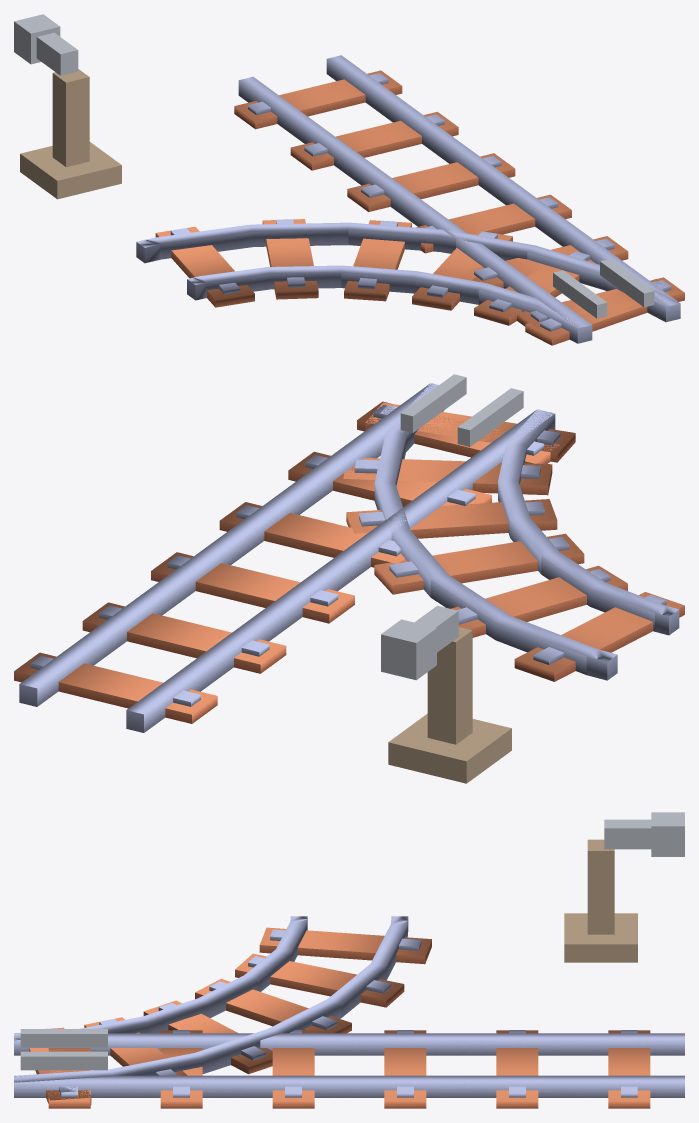
Rendered from switch-mirror.glb.
The picture shows the model from 3 angles, top to bottom: view 1: azimuth 30°, elevation 25°; view 2: azimuth 150°, elevation 25°; view 3: azimuth 270°, elevation 25°; orthographic projection. The views are drawn at different scales.
Visible parts, largest first — view 1: switch_through, switch_diverge, switch_lever_base, switch_lever_arm, switch_blade_-1, switch_blade_1; view 2: switch_through, switch_diverge, switch_lever_base, switch_lever_arm, switch_blade_1, switch_blade_-1; view 3: switch_through, switch_diverge, switch_lever_base, switch_lever_arm, switch_blade_1, switch_blade_-1.
Part boxes in pixels (box(x1,y1,x2,y2)): switch_through: box(234, 55, 684, 343); switch_diverge: box(136, 219, 679, 345); switch_lever_base: box(20, 69, 121, 199); switch_lever_arm: box(14, 14, 78, 75); switch_blade_-1: box(553, 270, 607, 318); switch_blade_1: box(600, 259, 654, 307); switch_through: box(14, 383, 559, 732); switch_diverge: box(343, 383, 684, 681); switch_lever_base: box(388, 627, 511, 783); switch_lever_arm: box(381, 605, 458, 680); switch_blade_1: box(400, 374, 466, 432); switch_blade_-1: box(457, 388, 523, 446); switch_through: box(14, 1030, 684, 1108); switch_diverge: box(14, 916, 431, 1104); switch_lever_base: box(564, 839, 637, 962); switch_lever_arm: box(604, 812, 684, 856); switch_blade_1: box(20, 1051, 107, 1070); switch_blade_-1: box(20, 1029, 107, 1047).
Bounding box in the file's own units: 2.5 × 0.84 × 4.
4 materials, 2 textured.
